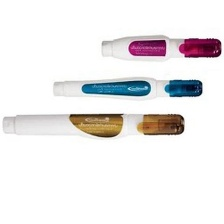correction_fluid: (0, 110, 187, 144), (51, 75, 204, 101), (99, 32, 222, 63)
